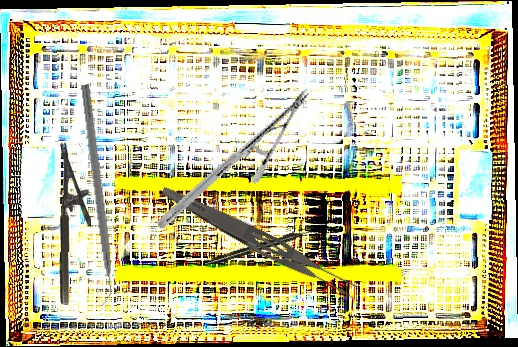Chopper: (69, 84, 117, 307)
Dressing Forceps: (156, 182, 361, 302)
Handpiece: (204, 226, 313, 269)
Needle Holder: (155, 58, 311, 261), (58, 141, 93, 306)
